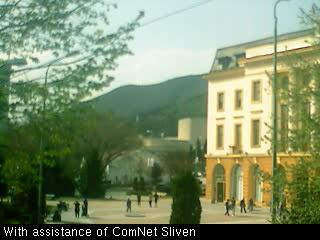person: (82, 199, 89, 218), (225, 198, 231, 216), (240, 199, 247, 214), (125, 197, 132, 212), (153, 191, 159, 208), (74, 201, 80, 218), (136, 191, 142, 206), (249, 197, 254, 213), (232, 197, 236, 216), (149, 192, 154, 207)
